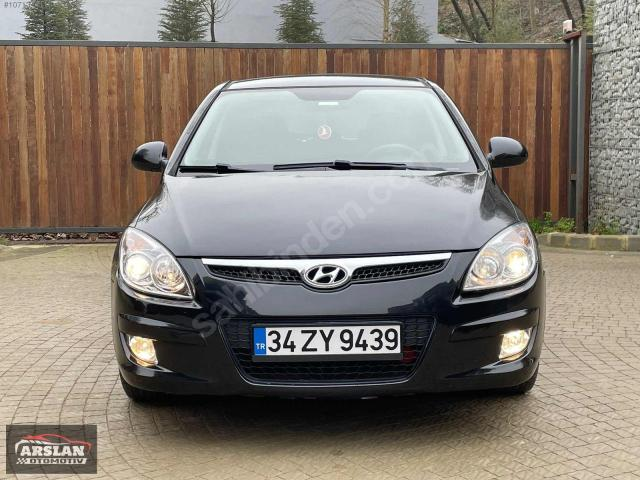plaka: (252, 324, 400, 356)
